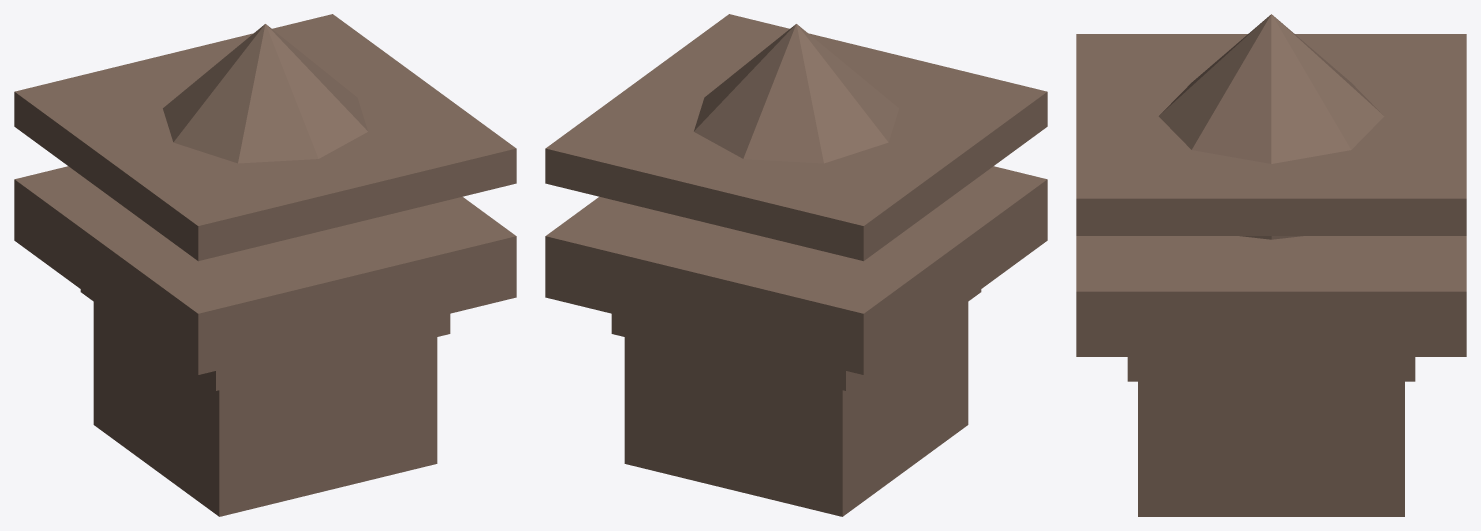
The model's file is dm_ironfinial.glb.
The picture shows the model from 3 angles, left to right: view 1: azimuth 30°, elevation 25°; view 2: azimuth 150°, elevation 25°; view 3: azimuth 270°, elevation 25°; orthographic projection. The views are drawn at different scales.
Visible parts, largest first — view 1: dm_ironfinial; view 2: dm_ironfinial; view 3: dm_ironfinial.
Part boxes in pixels (x1,y1,x2,y2): dm_ironfinial: (14,14,516,516); dm_ironfinial: (545,14,1047,516); dm_ironfinial: (1076,14,1466,516).
Size of the model in its own units: 0.38 by 0.48 by 0.38.
